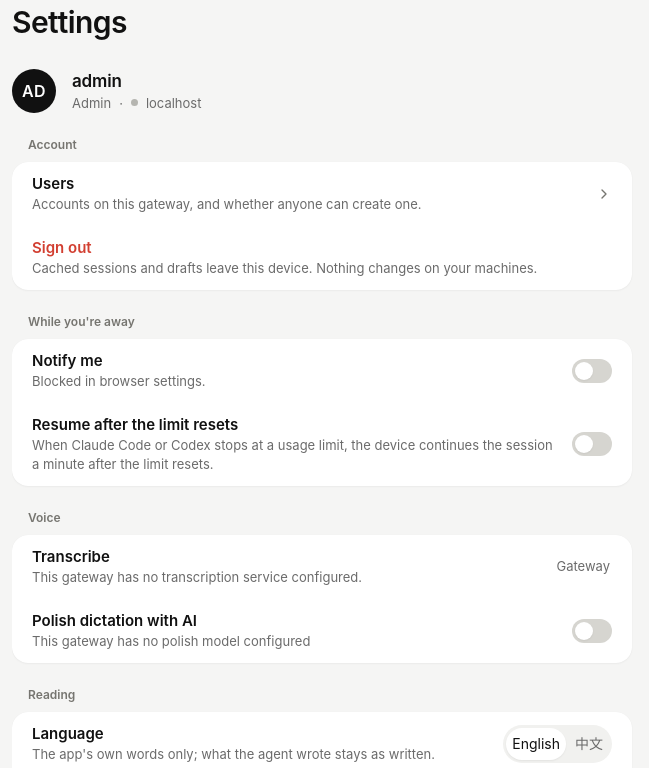
settings: while you're away › puts the switch back and says so in the row when the gateway refuses
Click the switch named "Resume after the limit resets" at [592, 444], box [572, 432, 612, 456]
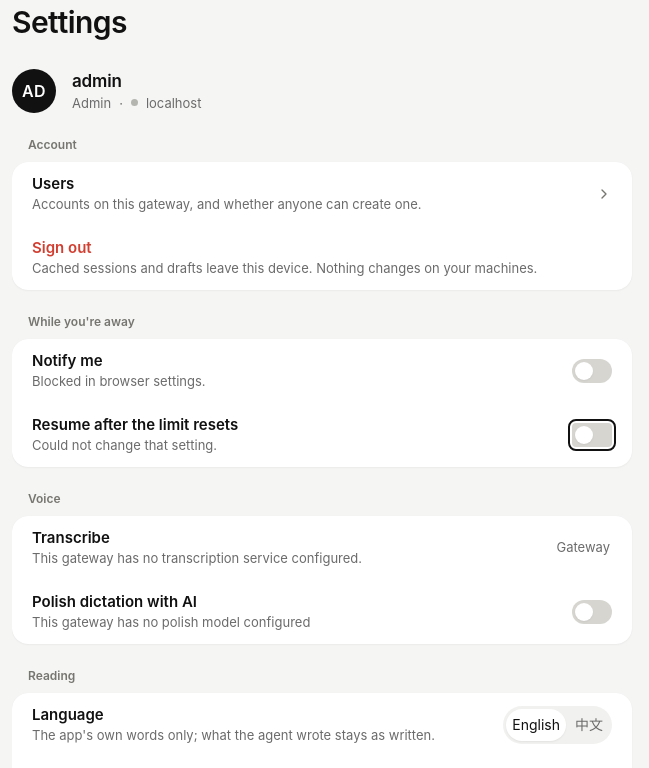
Expected: the text "Could not change that setting." is shown, [32, 436, 238, 455]
Expected: the text "When Claude Code or Codex stops at a usage limit, the device continues the session a minute after the limit resets." is gone
